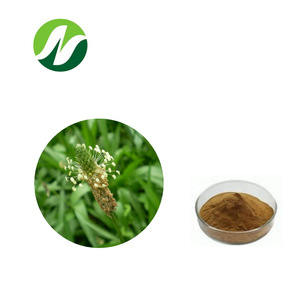buckhorn plantain: (63, 142, 125, 223)
